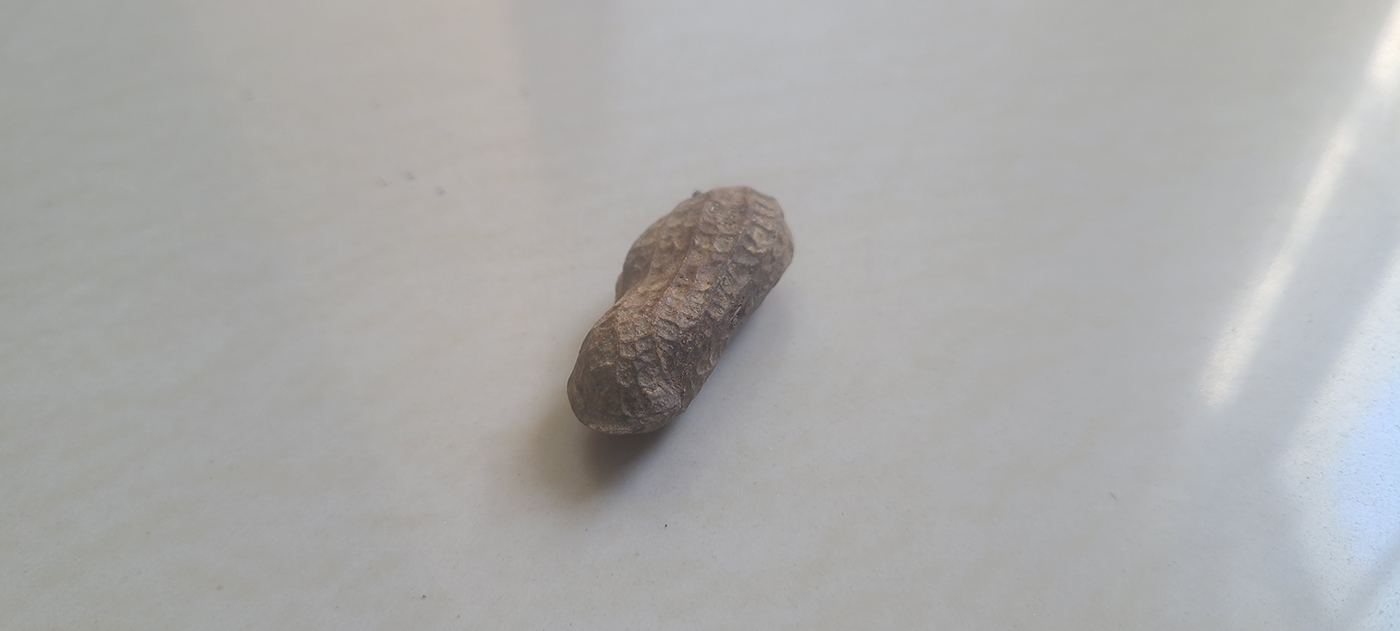l: (565, 186, 797, 440)
